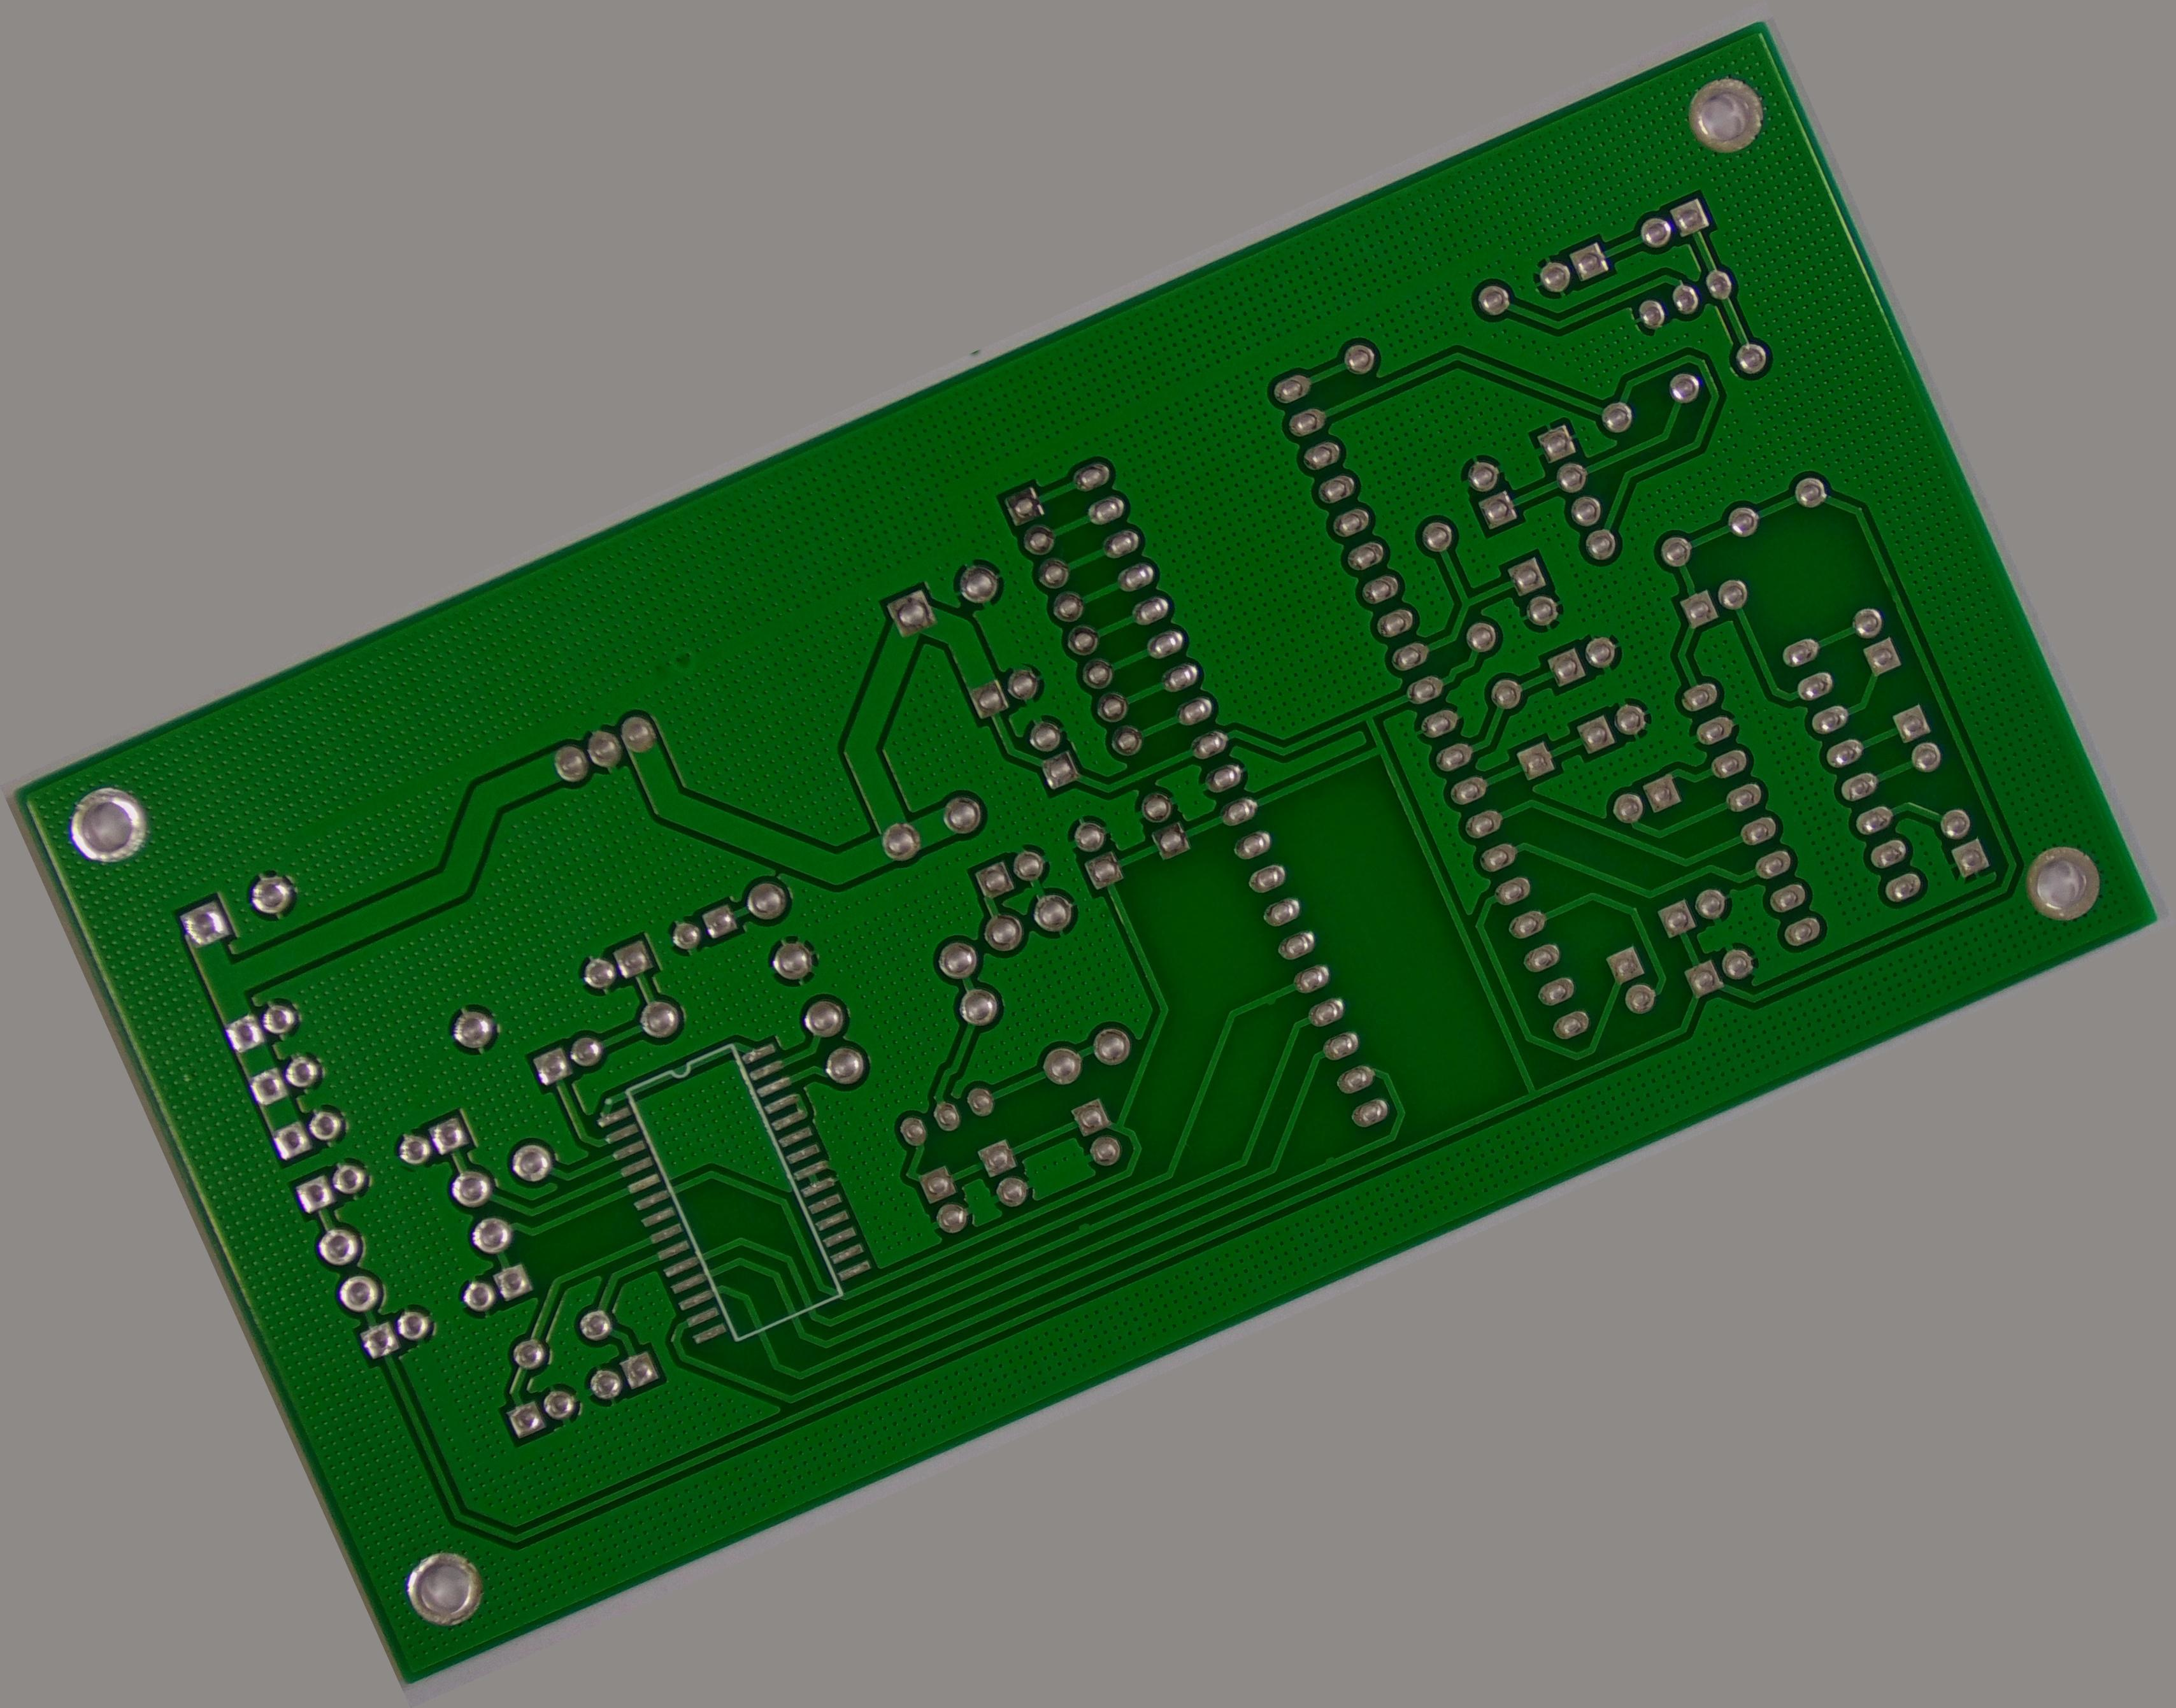spur: (1070, 1210, 1102, 1245), (1256, 982, 1288, 1014), (1316, 1148, 1346, 1178)
